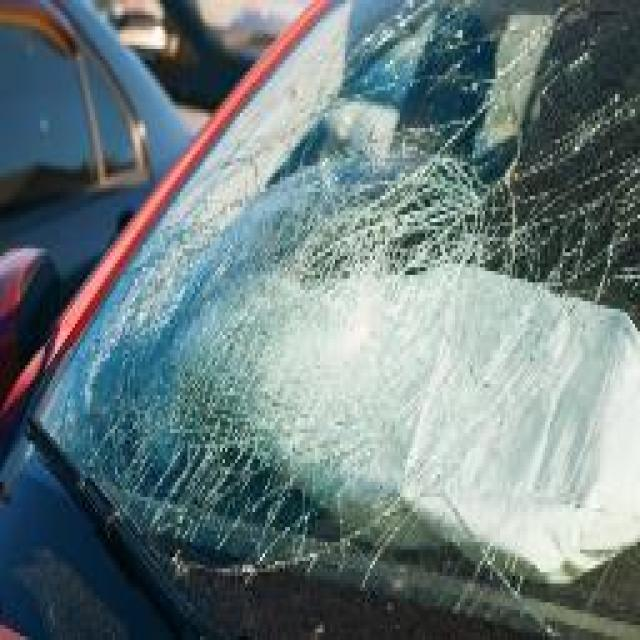Windshield: (19, 0, 640, 639)
